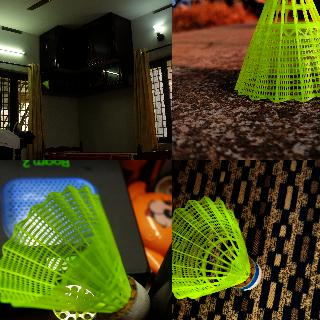shuttlecock: (0, 185, 150, 319), (172, 196, 262, 301), (231, 0, 319, 102), (42, 80, 48, 88)
